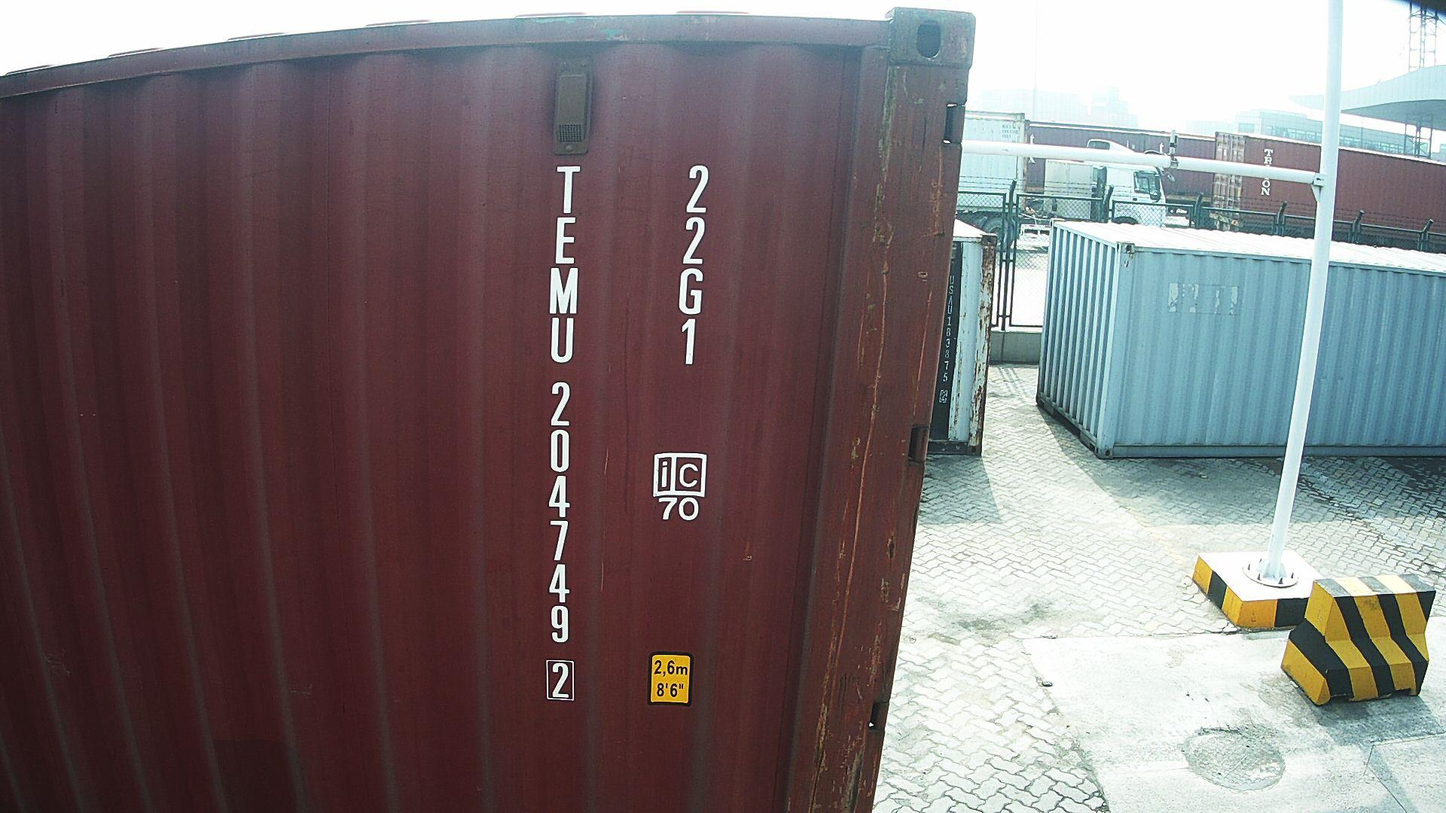container-numbers: (533, 160, 584, 708), (670, 160, 716, 371)
